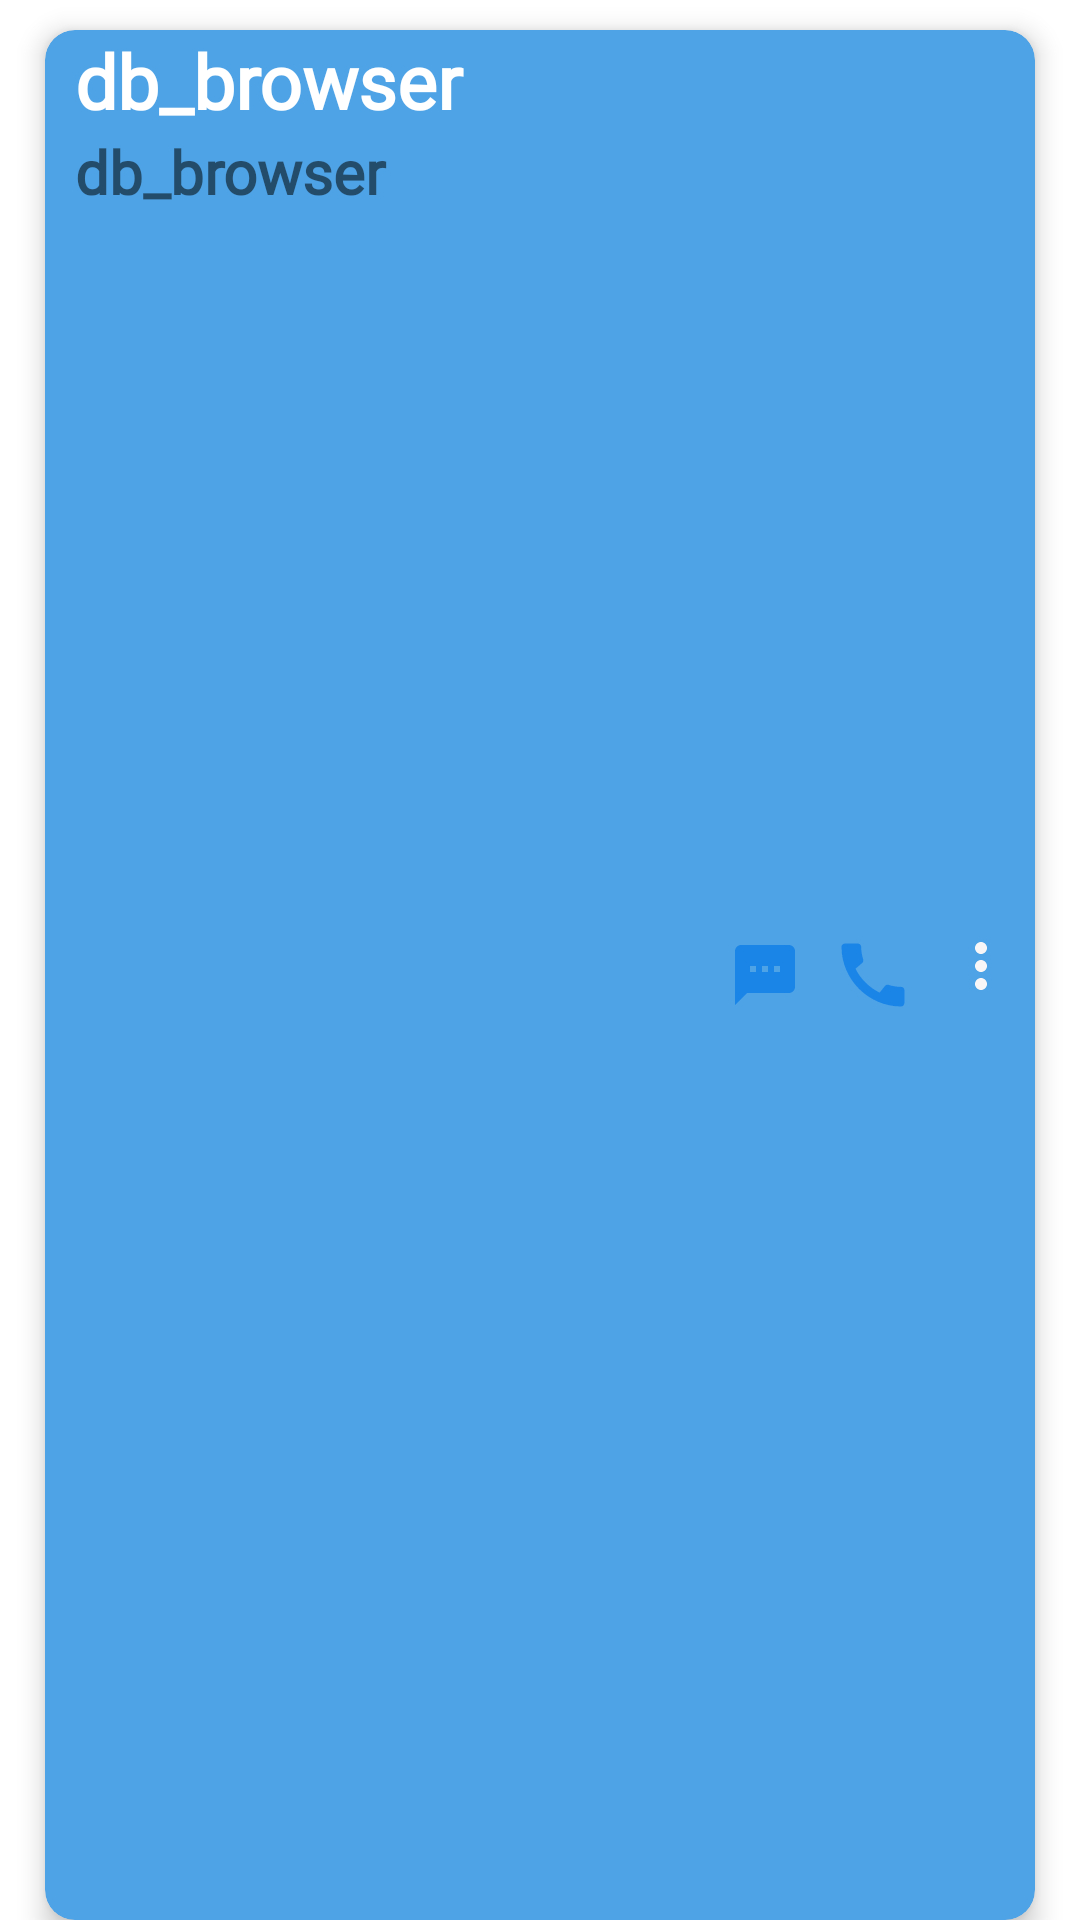

Screen size 1080×1920. Icon name, then its box in pixels as (x1, y1, x2, y2):
call: (841, 943, 905, 1007)
